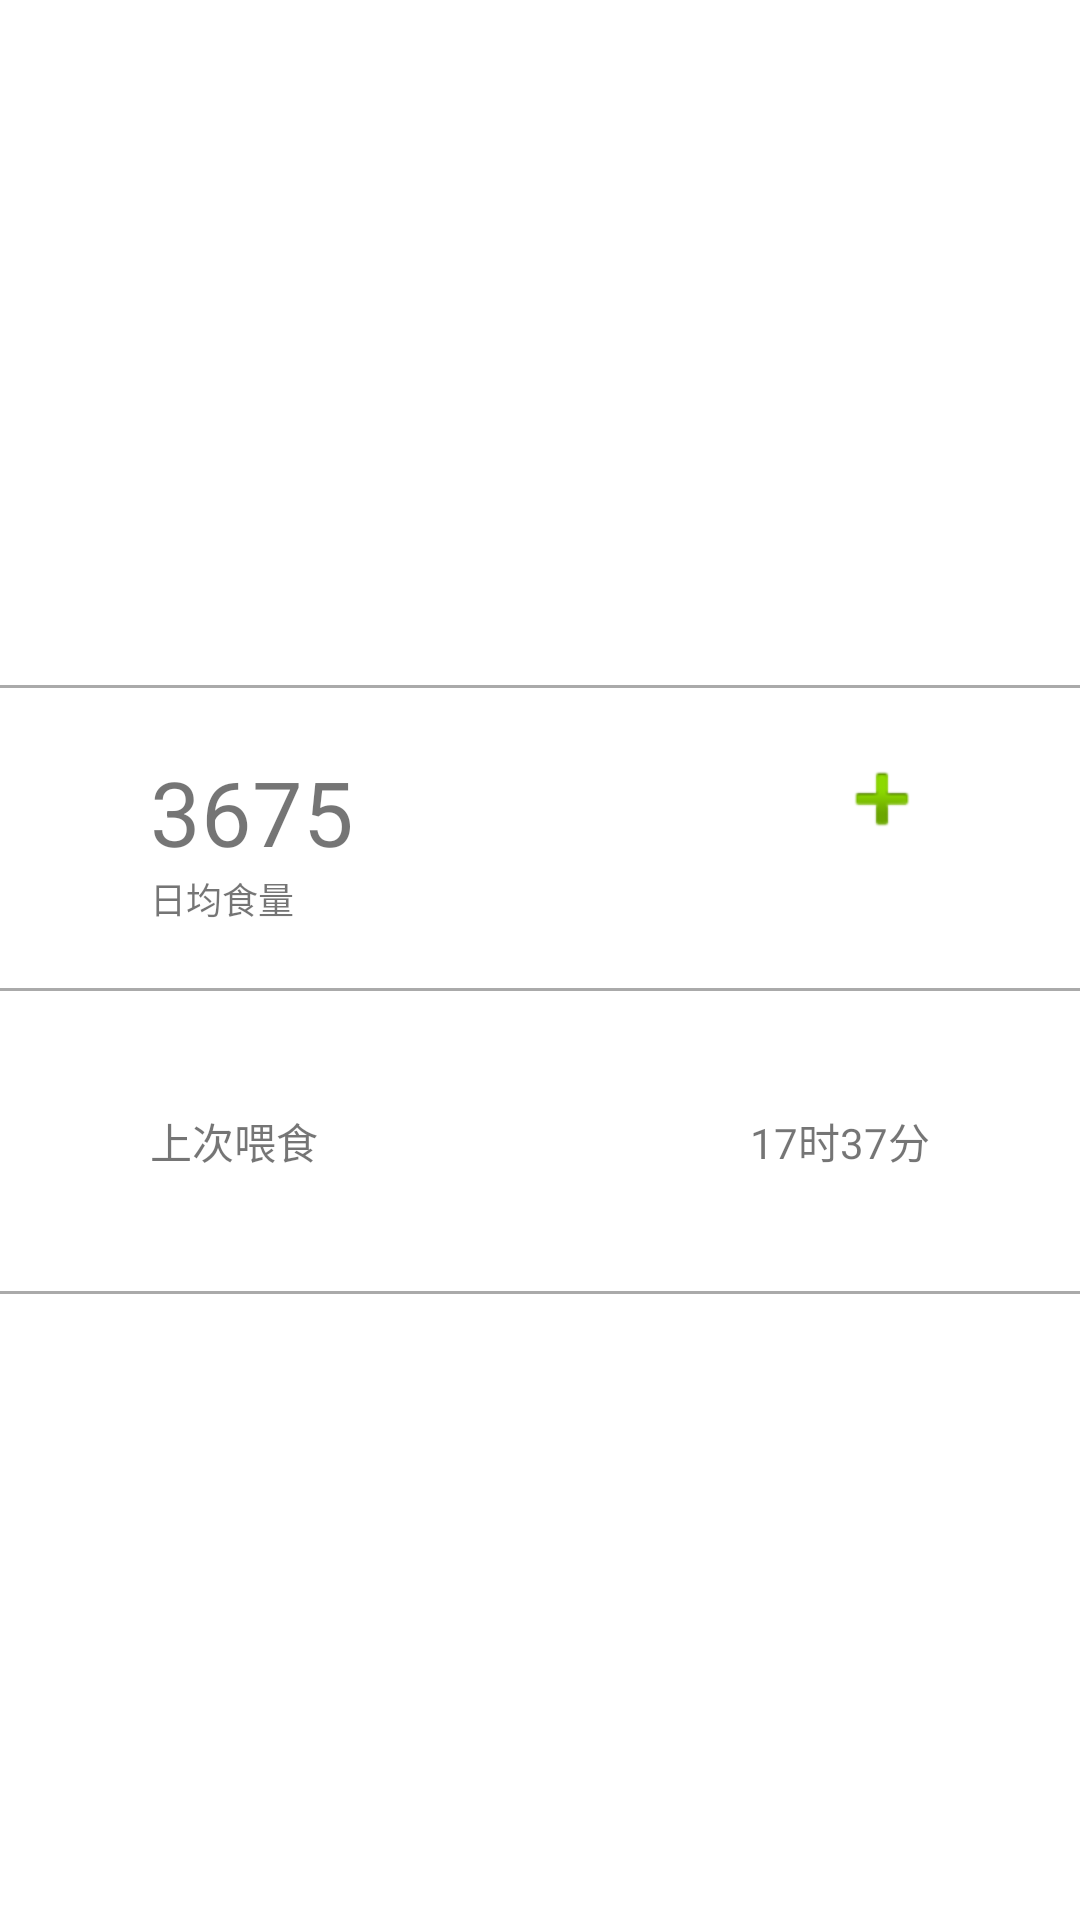

Screen size 1080w x 1920h. Icon name, then its center in pixels as (x=x, y=y):
add: (x=882, y=799)
